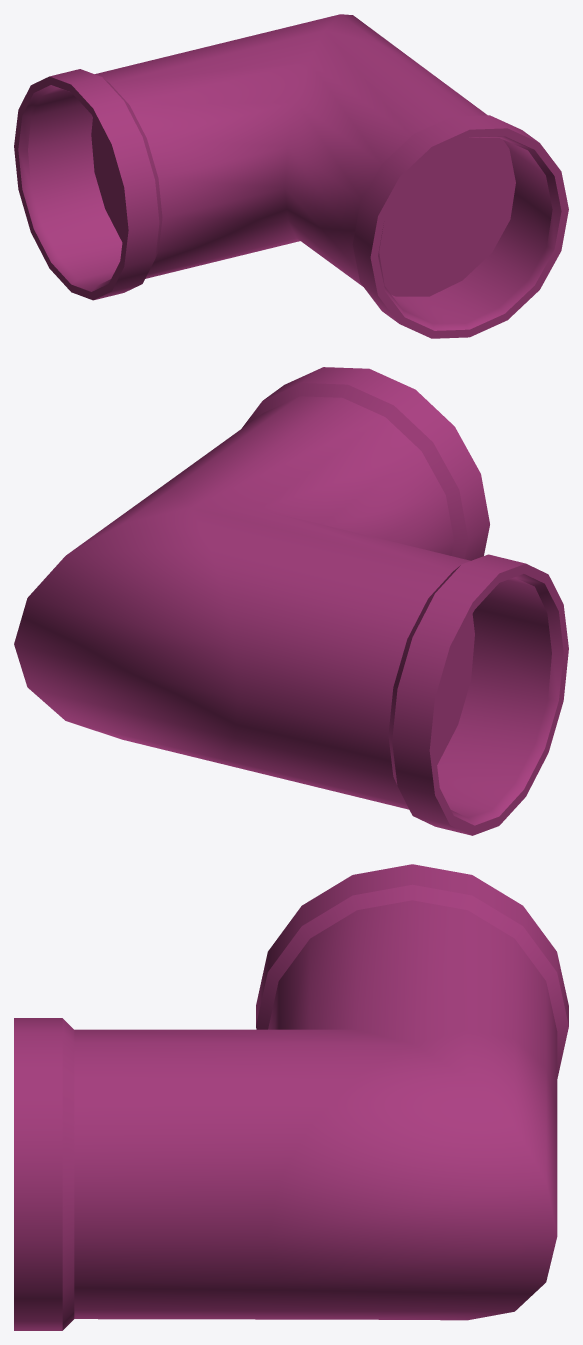
File: Pipe_2_Junction.fbx
The picture shows the model from 3 angles, top to bottom: view 1: azimuth 30°, elevation 25°; view 2: azimuth 150°, elevation 25°; view 3: azimuth 270°, elevation 25°; orthographic projection. The views are drawn at different scales.
Parts seen in each view (by area): view 1: Pipe_2_Junction; view 2: Pipe_2_Junction; view 3: Pipe_2_Junction.
Part boxes in pixels (bbox=[...]): Pipe_2_Junction: bbox=[14, 14, 568, 338]; Pipe_2_Junction: bbox=[14, 367, 568, 835]; Pipe_2_Junction: bbox=[14, 864, 568, 1330].
Size of the model in its own units: 9.79 by 5.52 by 9.79.
